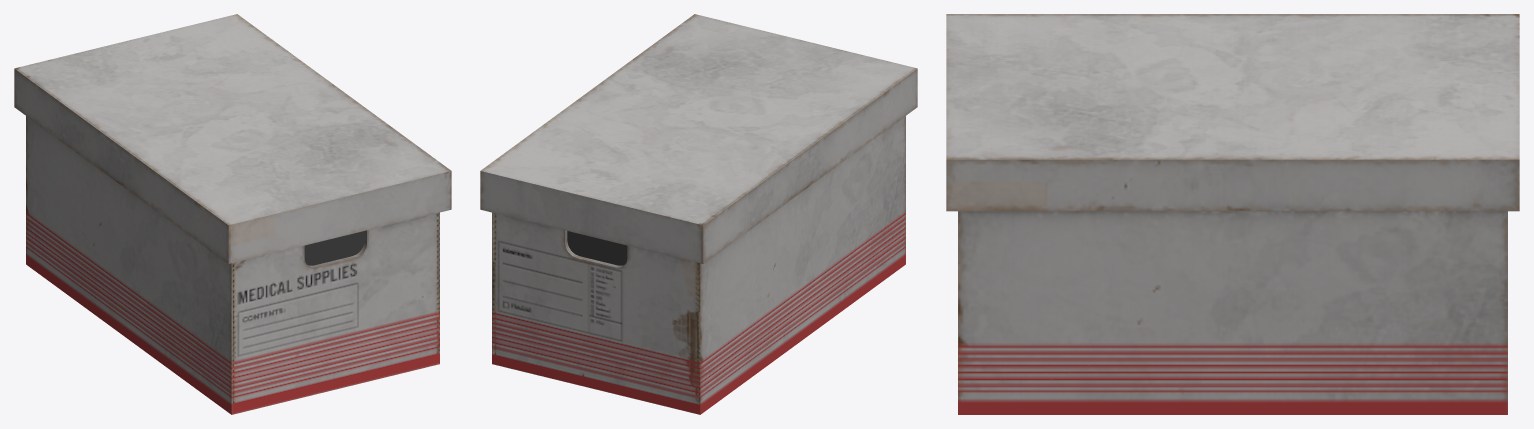
The model's file is HH_Cardboard_Box_02.fbx.
3 renders of one model, left to right at view 1: azimuth 30°, elevation 25°; view 2: azimuth 150°, elevation 25°; view 3: azimuth 270°, elevation 25°, orthographic. The views are drawn at different scales.
Visible parts, largest first — view 1: HH_Cardboard_Box_02_LOD0; view 2: HH_Cardboard_Box_02_LOD0; view 3: HH_Cardboard_Box_02_LOD0.
Boxes of the visible parts, bbox=[...] form: HH_Cardboard_Box_02_LOD0: bbox=[14, 14, 451, 414]; HH_Cardboard_Box_02_LOD0: bbox=[480, 14, 917, 414]; HH_Cardboard_Box_02_LOD0: bbox=[946, 14, 1519, 414].
Size of what is drawn, in the model's own units: 36.89 by 30.75 by 61.41.
